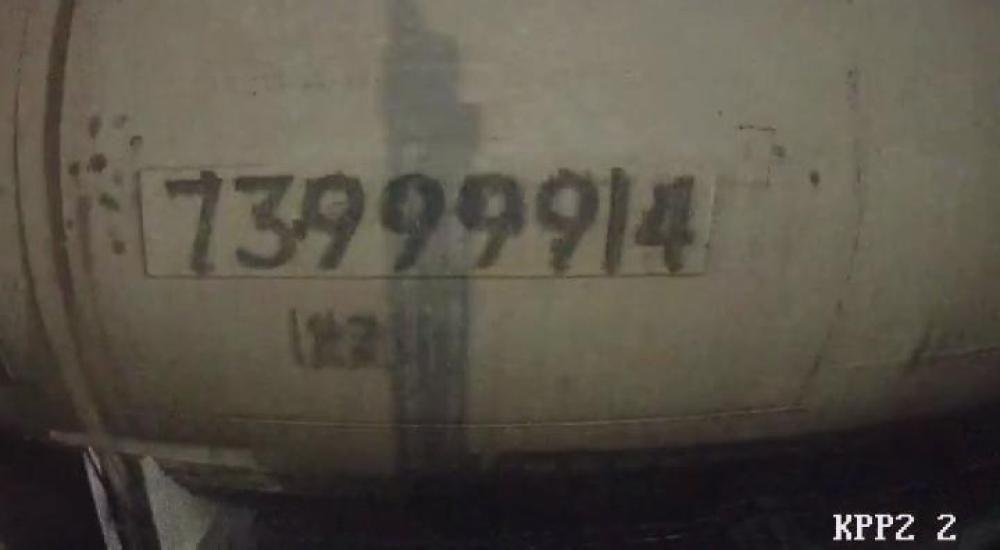Wagon-number: (159, 167, 705, 277)
